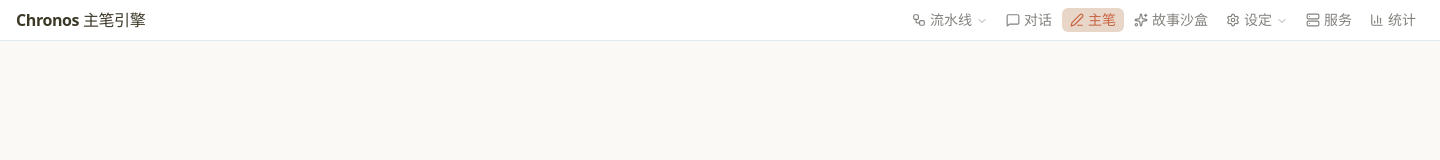
Test: Header navigation › 点开流水线分组展示 workflow 图三个 tab：对话/主笔/故事沙盒
Click the button "流水线".
click(950, 20)  # box x1=904 y1=8 x2=996 y2=32
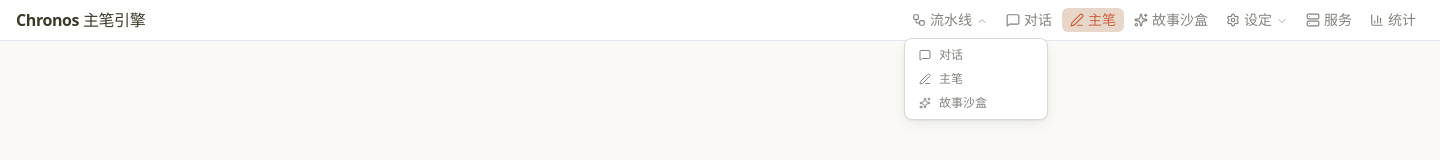
Check: the menu item "对话" is shown, box x1=919 y1=46 x2=963 y2=63
Check: the menu item "主笔" is shown, box x1=919 y1=70 x2=963 y2=87
Check: the menu item "故事沙盒" is shown, box x1=919 y1=94 x2=987 y2=111
